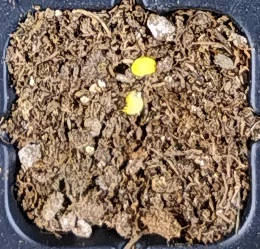pepper seed: (49, 32, 194, 148), (52, 18, 209, 96)
